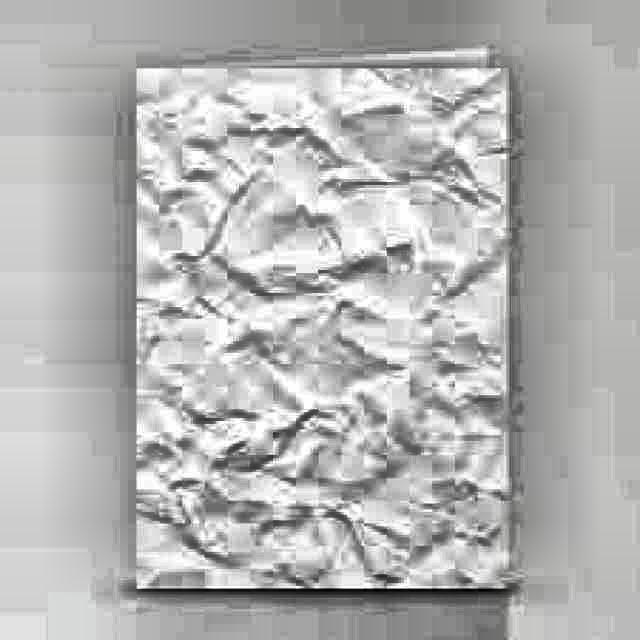Paper: (128, 63, 506, 589), (157, 46, 487, 544)
